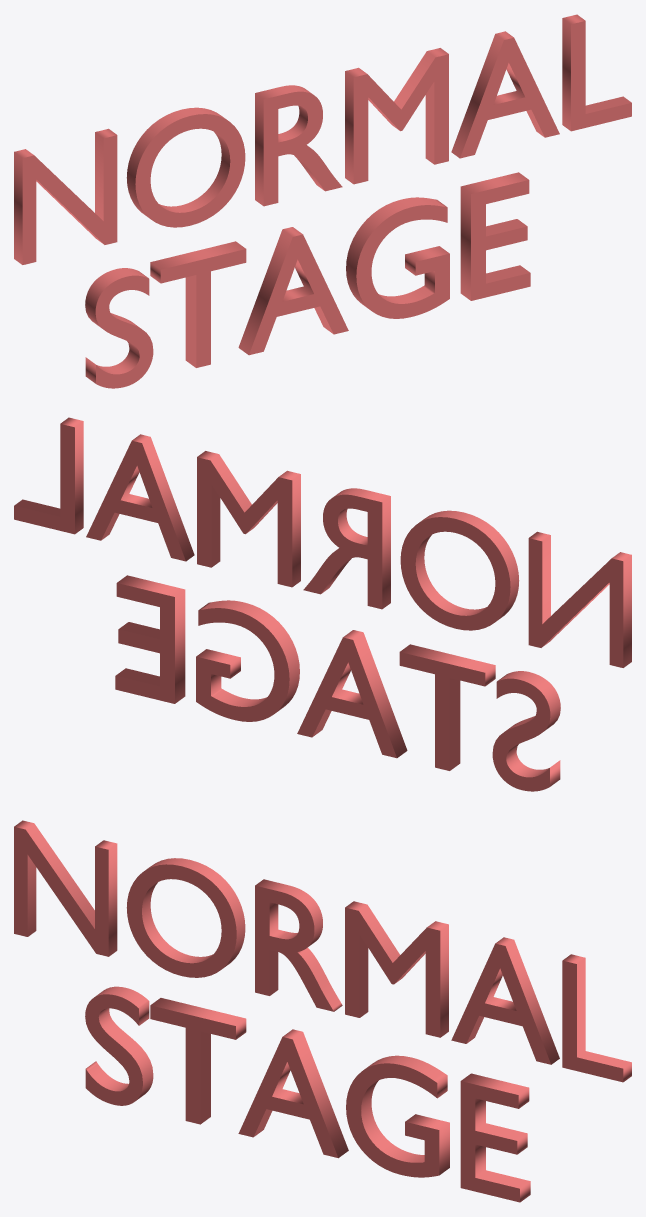
Rendered from normal.obj.
3 views of the same model, one above another, from view 1: azimuth 30°, elevation 25°; view 2: azimuth 150°, elevation 25°; view 3: azimuth 330°, elevation 25° (orthographic).
Parts seen in each view (by area): view 1: Text.001, Text; view 2: Text.001, Text; view 3: Text.001, Text.
Boxes of the visible parts, x1,y1,x2,y2 form: Text.001: [14, 14, 631, 264]; Text: [85, 172, 530, 388]; Text.001: [14, 417, 631, 667]; Text: [115, 575, 560, 791]; Text.001: [14, 820, 631, 1082]; Text: [85, 986, 530, 1202].
Bounding box in the file's own units: 4.06 × 1.62 × 0.12.
